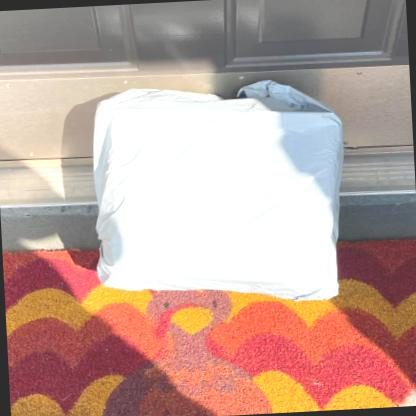plastic_bag: (93, 76, 351, 305)
